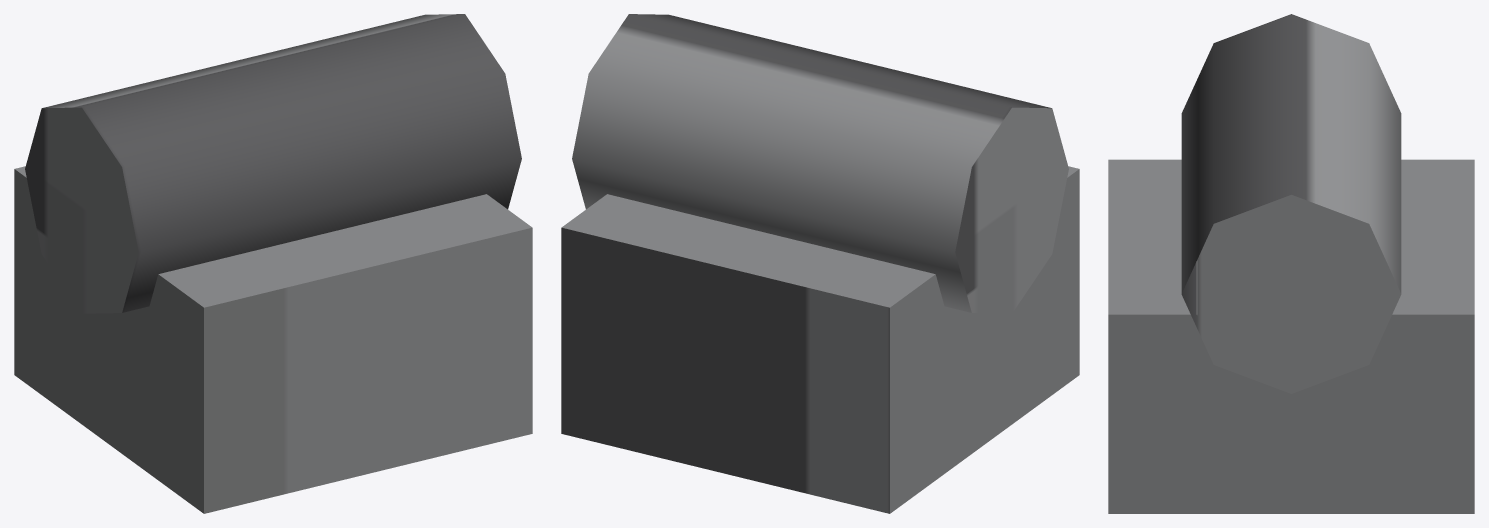
3 views of the same model, side by side, from view 1: azimuth 30°, elevation 25°; view 2: azimuth 150°, elevation 25°; view 3: azimuth 270°, elevation 25° (orthographic). The views are drawn at different scales.
Size of the model in its own units: 0.035 by 0.03 by 0.03.
